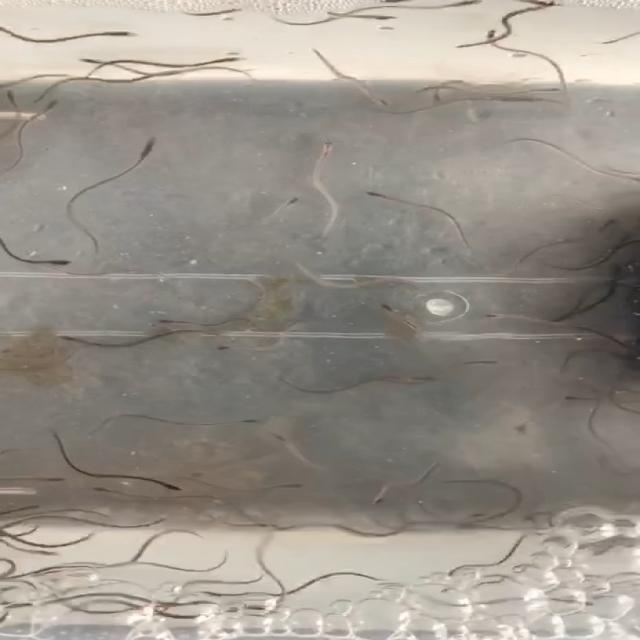active_glass_eel: (356, 178, 394, 208), (143, 130, 175, 156), (104, 26, 140, 47), (304, 135, 340, 156), (44, 99, 79, 119), (273, 187, 306, 205), (281, 476, 310, 496), (209, 50, 249, 64), (359, 93, 394, 108), (355, 299, 394, 312), (50, 329, 76, 348), (204, 339, 234, 355), (43, 473, 75, 488), (17, 496, 46, 512), (82, 481, 114, 495), (58, 255, 81, 274), (477, 28, 508, 42), (474, 310, 514, 320), (149, 314, 182, 326), (462, 512, 486, 528), (158, 480, 192, 491), (3, 90, 31, 102), (536, 85, 560, 97), (270, 431, 288, 446), (557, 388, 572, 406), (418, 373, 440, 383), (78, 54, 96, 66), (236, 414, 254, 424), (371, 493, 387, 504)
